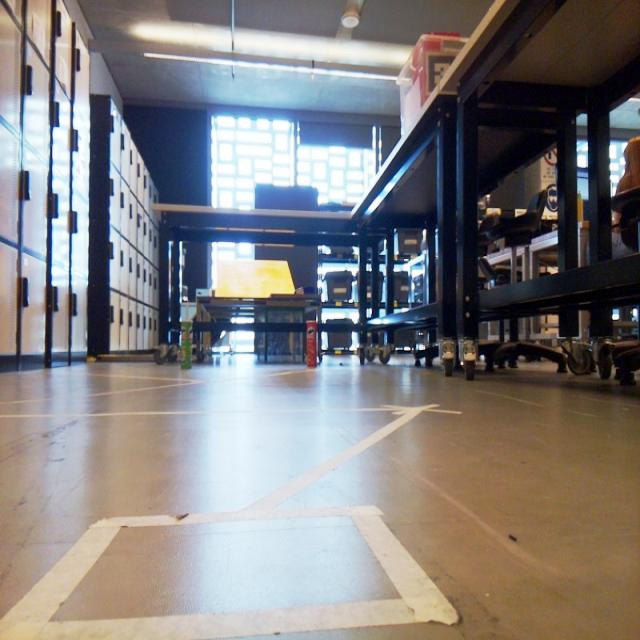greenpringles: (175, 313, 198, 369)
redpringles: (298, 314, 324, 368)
